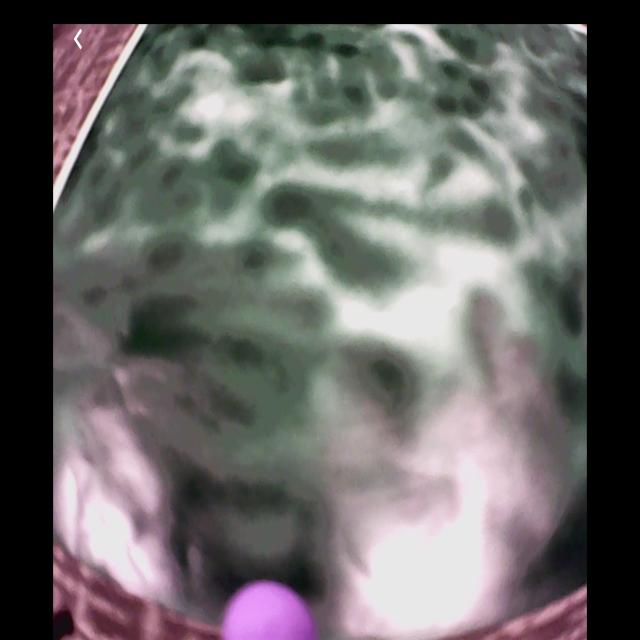ball: (225, 583, 316, 640)
